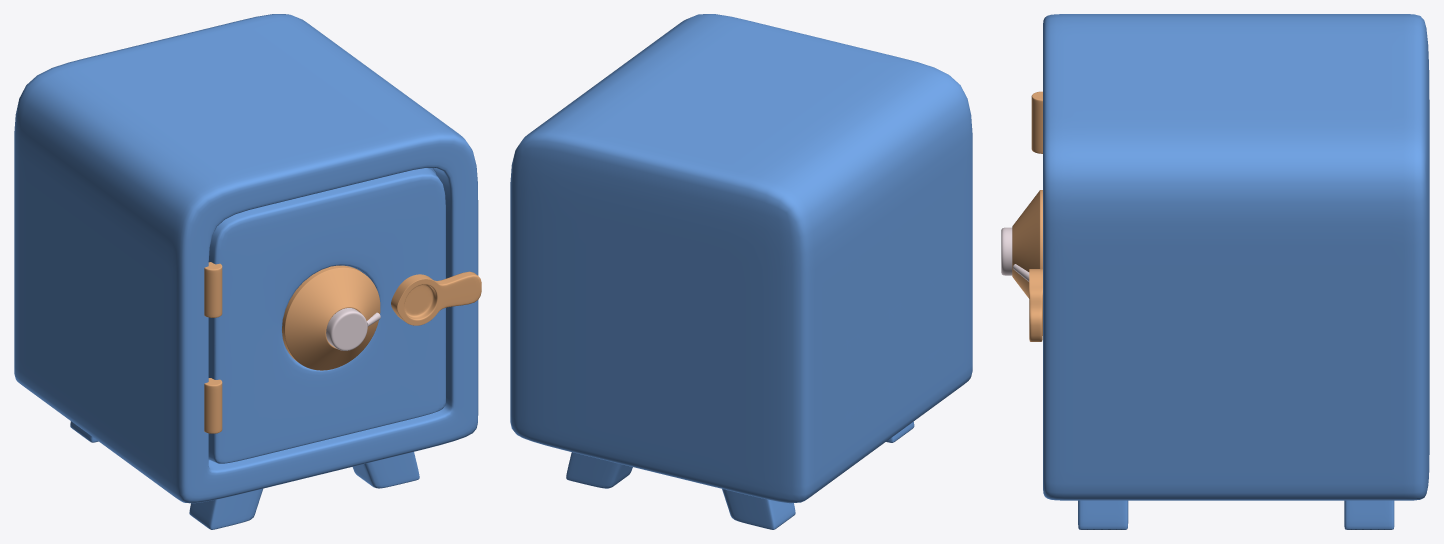
3 renders of one model, left to right at view 1: azimuth 30°, elevation 25°; view 2: azimuth 150°, elevation 25°; view 3: azimuth 270°, elevation 25°, orthographic. The views are drawn at different scales.
Visible parts, largest first — view 1: Cube, Cube.003, Circle, Cube.001, Circle.001, Cube.002; view 2: Cube, Cube.001; view 3: Cube, Cube.001, Circle, Circle.001, Cube.002.
Boxes of the visible parts, x1=… form: Cube: x1=14, y1=14, x2=478, y2=503; Cube.003: x1=208, y1=168, x2=445, y2=463; Circle: x1=282, y1=265, x2=380, y2=370; Cube.001: x1=70, y1=421, x2=419, y2=529; Circle.001: x1=391, y1=271, x2=481, y2=325; Cube.002: x1=204, y1=262, x2=222, y2=433; Cube: x1=510, y1=14, x2=972, y2=503; Cube.001: x1=566, y1=422, x2=914, y2=529; Cube: x1=1043, y1=14, x2=1429, y2=500; Cube.001: x1=1078, y1=500, x2=1394, y2=529; Circle: x1=1001, y1=190, x2=1042, y2=298; Circle.001: x1=1029, y1=269, x2=1042, y2=341; Cube.002: x1=1031, y1=91, x2=1042, y2=153.
Bounding box in the file's own units: 200 × 227 × 221.
